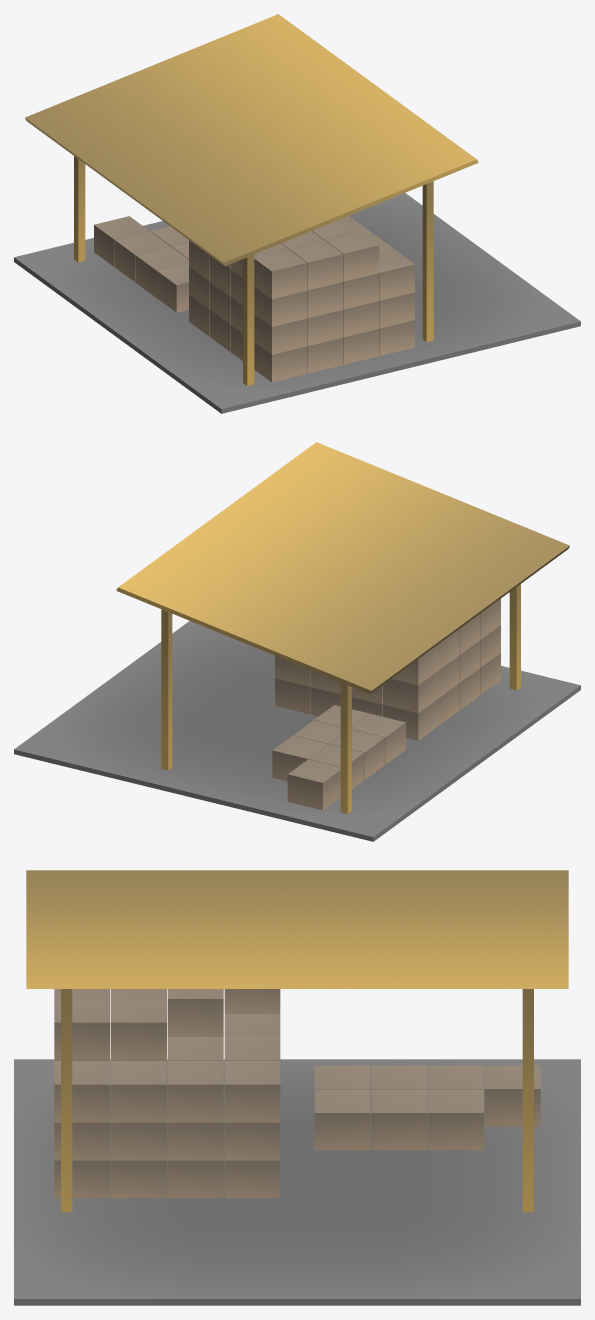
The model's file is storage2.glb.
3 views of the same model, one above another, from view 1: azimuth 30°, elevation 25°; view 2: azimuth 150°, elevation 25°; view 3: azimuth 270°, elevation 25° (orthographic). The views are drawn at different scales.
Parts seen in each view (by area): view 1: Storage2; view 2: Storage2; view 3: Storage2.
Part boxes in pixels (x1=…): Storage2: x1=14, y1=14, x2=580, y2=413; Storage2: x1=14, y1=442, x2=580, y2=841; Storage2: x1=14, y1=870, x2=580, y2=1305.
Size of the model in its own units: 4 by 2 by 4.
1 material, 1 textured.
